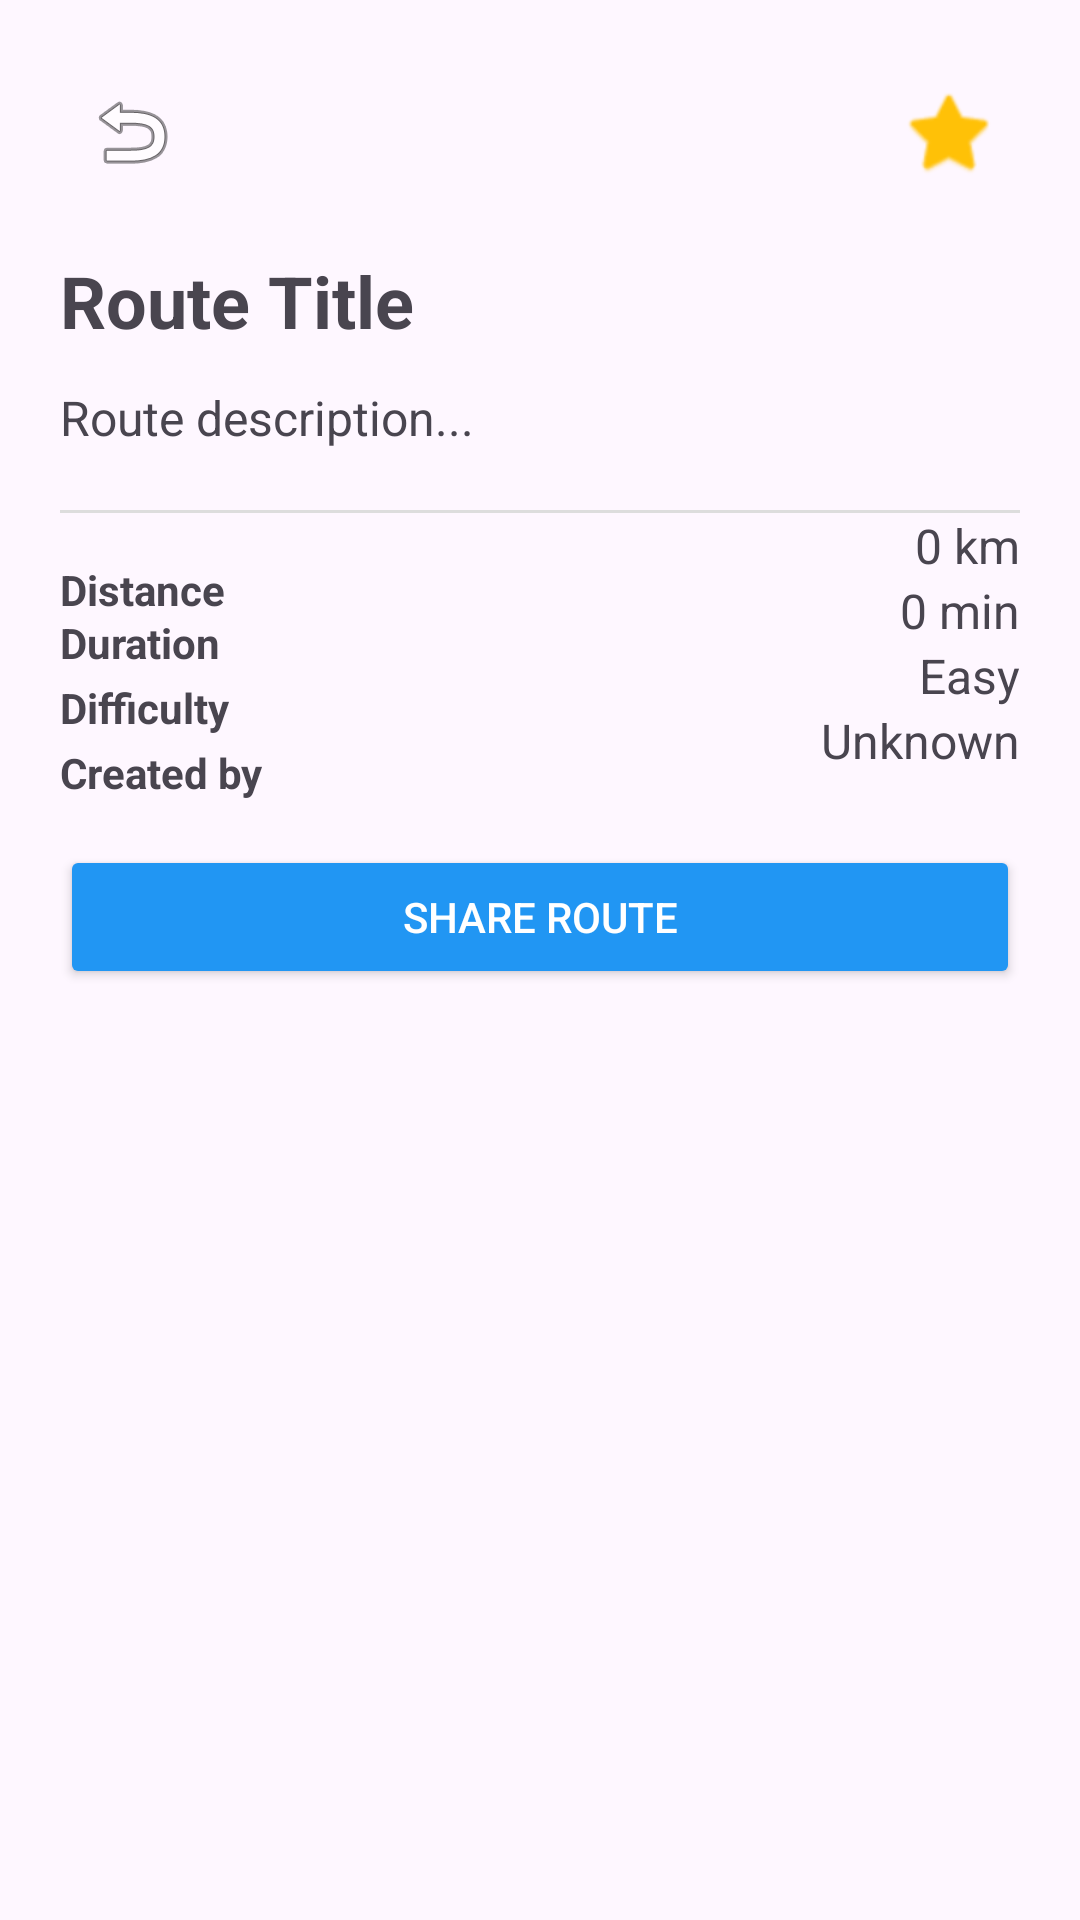

Icons on this 1080px×1920px Android screen, each with the point to tap as (x=x, y=y):
Add to favorites: (x=949, y=133)
Back: (x=133, y=132)
